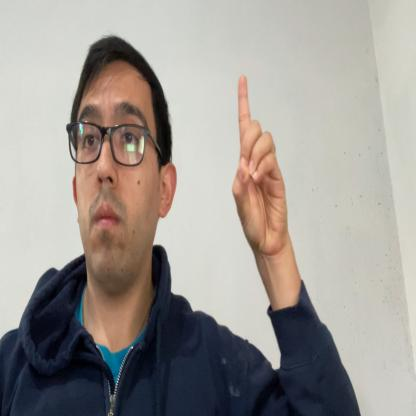D: (232, 76, 288, 258)
